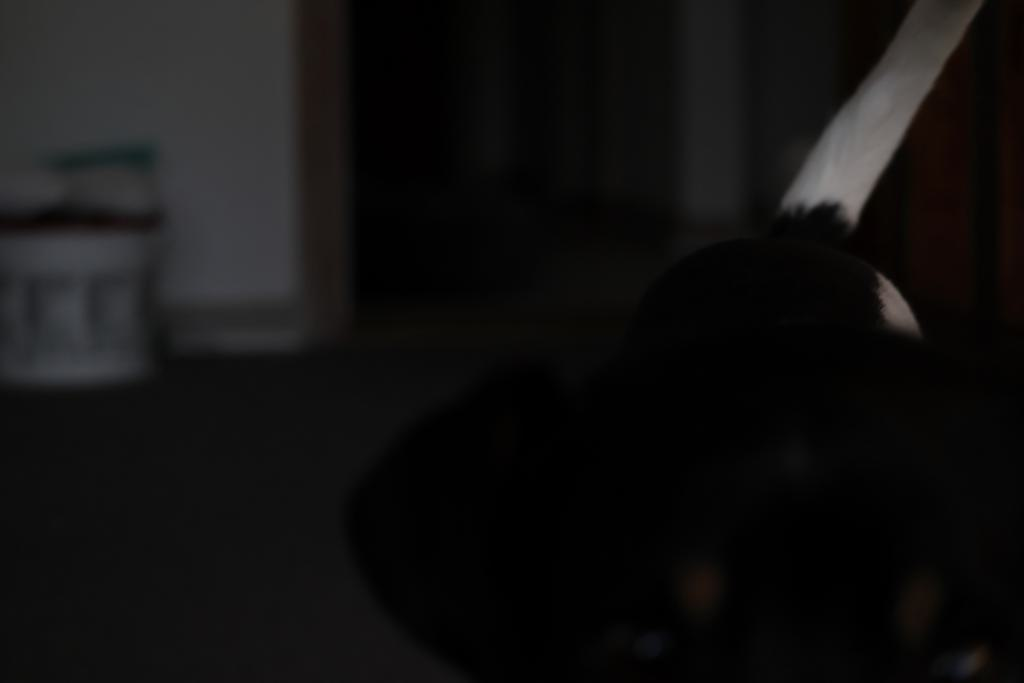Dog: (323, 0, 1024, 683)
